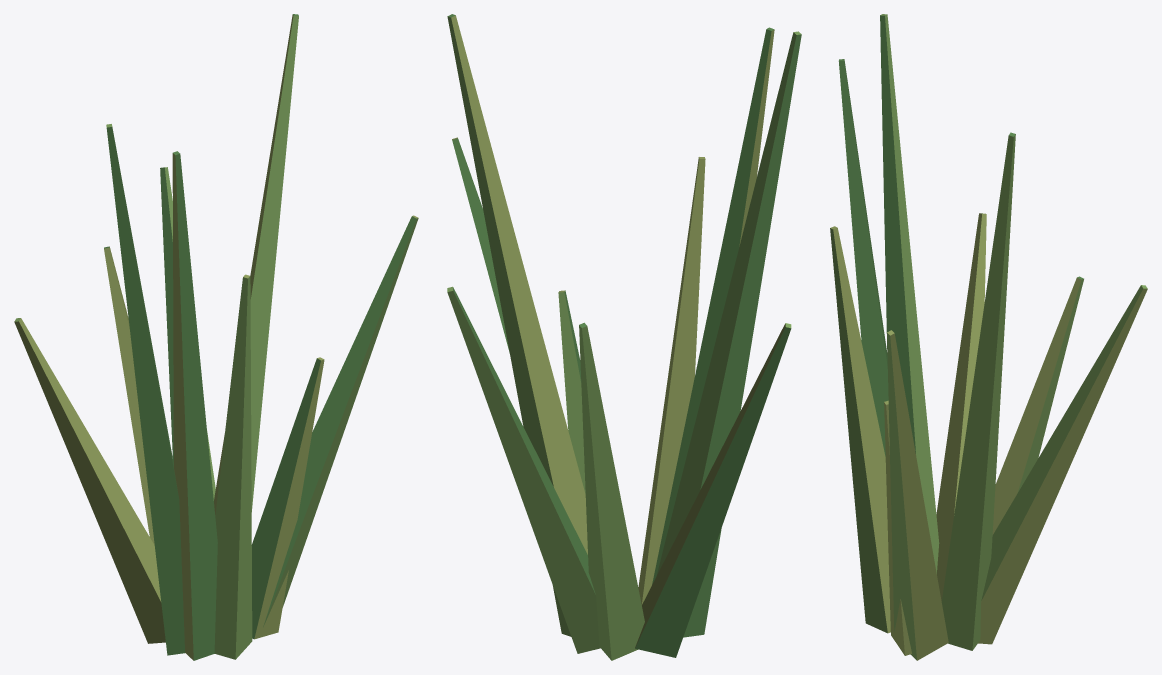
The model's file is grass_tuft.glb.
3 renders of one model, left to right at view 1: azimuth 30°, elevation 25°; view 2: azimuth 150°, elevation 25°; view 3: azimuth 270°, elevation 25°, orthographic. The views are drawn at different scales.
Visible parts, largest first — view 1: grass_tuft; view 2: grass_tuft; view 3: grass_tuft.
Boxes of the visible parts, <box> form: grass_tuft: <box>14,14,418,660</box>; grass_tuft: <box>447,14,801,660</box>; grass_tuft: <box>830,14,1147,660</box>.
Size of the model in its own units: 0.415 by 0.6277 by 0.3221.
